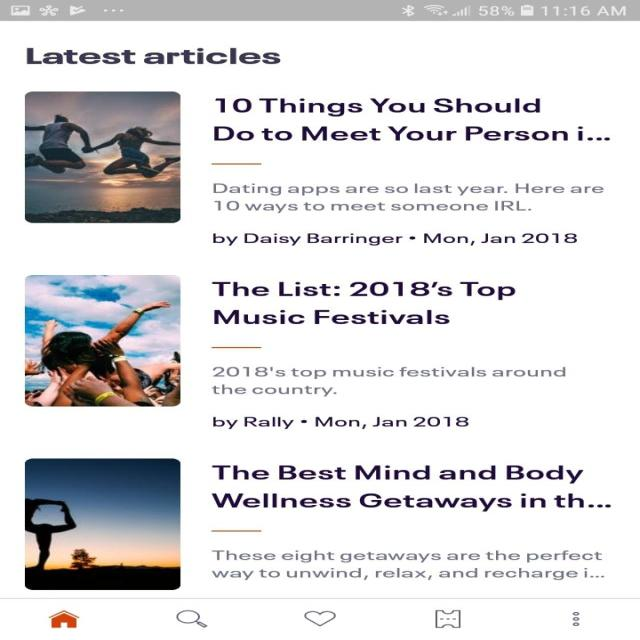Icon: (47, 610, 79, 628), (176, 609, 207, 627), (303, 610, 336, 626), (434, 609, 460, 628), (572, 611, 580, 626)
Image: (24, 91, 180, 223), (24, 275, 180, 407), (24, 458, 180, 590)
Text: (210, 465, 610, 511), (213, 99, 610, 141), (210, 281, 514, 324), (211, 550, 604, 580), (212, 183, 604, 213), (210, 367, 566, 396), (212, 233, 576, 246), (26, 48, 280, 64), (212, 416, 468, 429)
